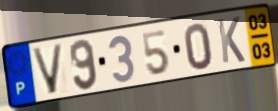0: (182, 20, 215, 72)
3: (107, 32, 137, 85)
5: (140, 28, 171, 77)
9: (68, 37, 100, 93)
K: (215, 15, 247, 66)
V: (30, 42, 65, 96)
